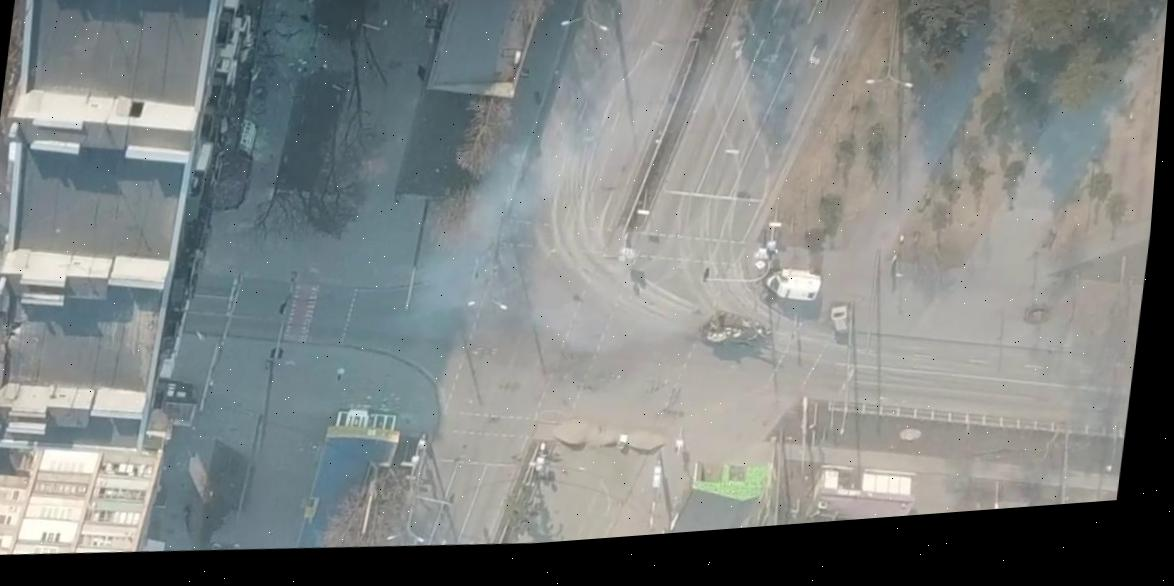tank: (695, 306, 780, 356)
